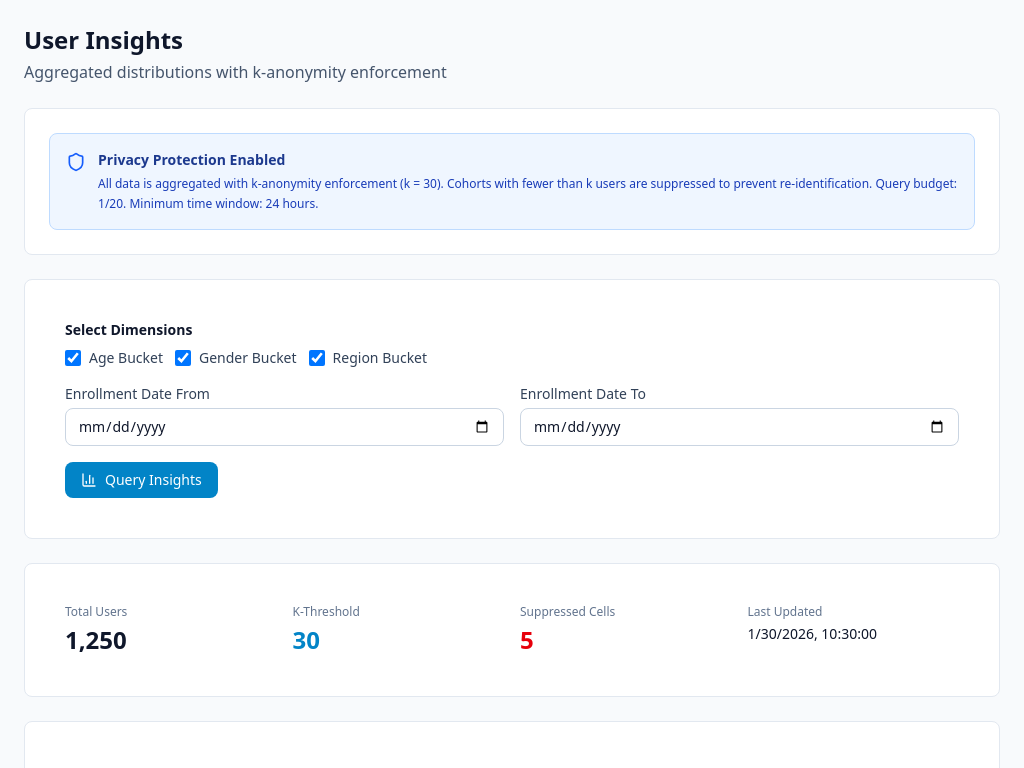
Test: Insights Page › Inference Attack Defenses › increments query count on each query
Check: the text "Query budget: 1/20" is shown, box [98,174,958,213]
Click the button "Query Insights" at (141, 480), box [65,462,218,498]
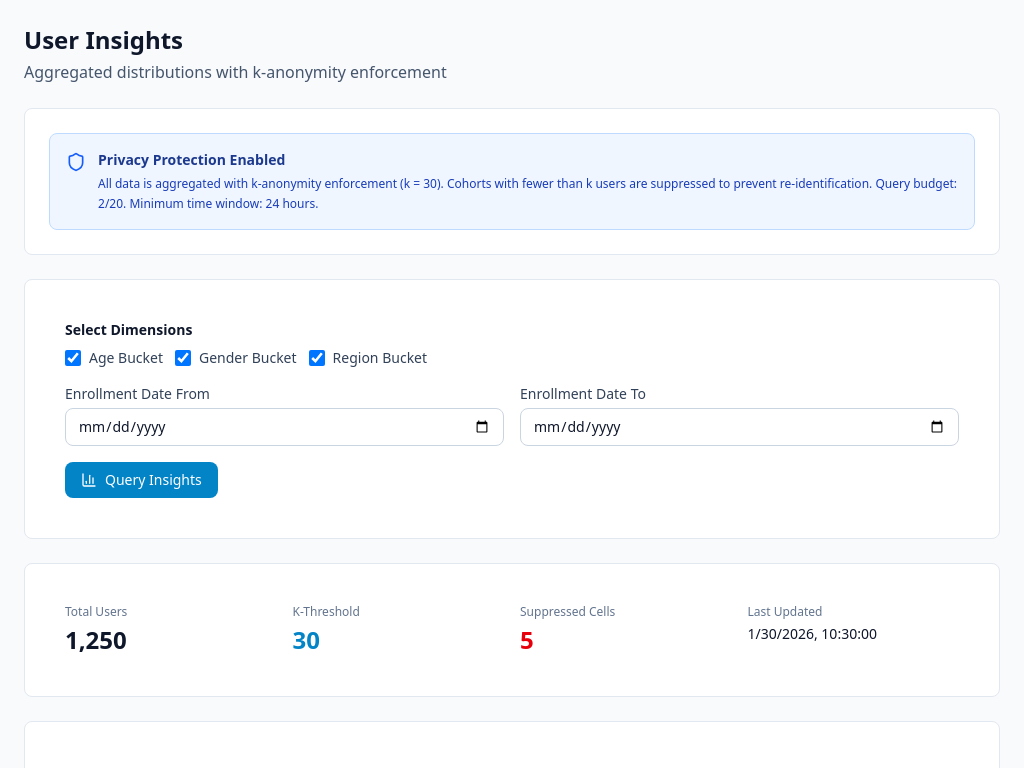
Check: the text "Query budget: 2/20" is shown, box [98,174,958,213]
